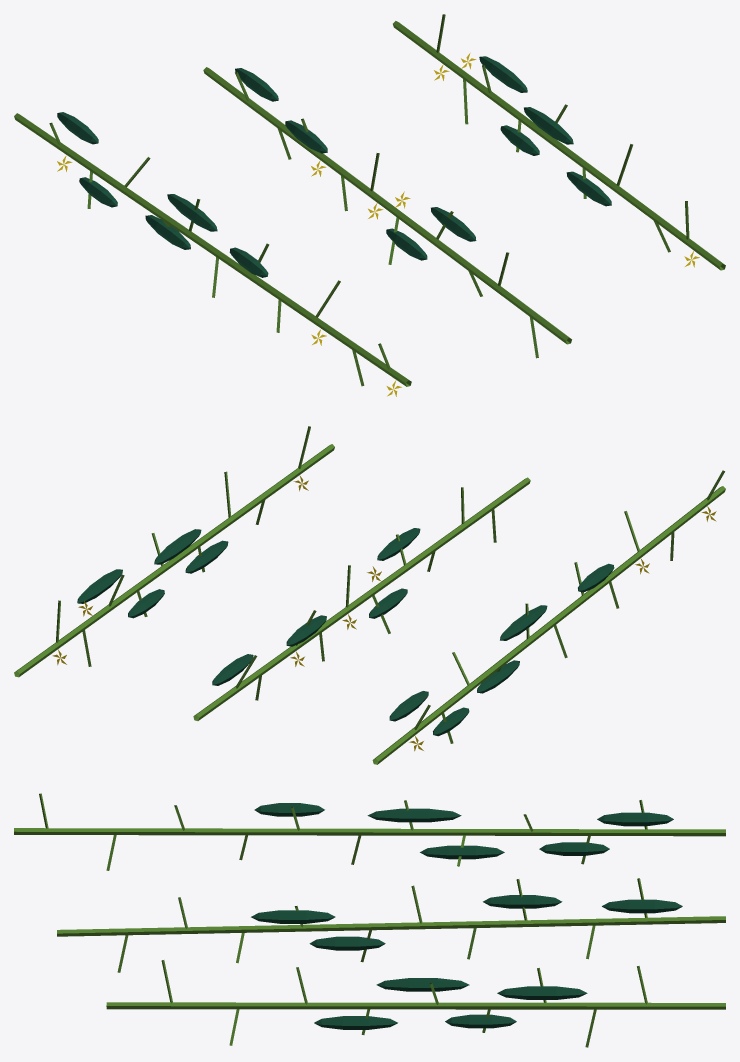
The model's file is r4c0_stems.obj.
The picture shows the model from 3 angles, top to bottom: view 1: azimuth 30°, elevation 25°; view 2: azimuth 150°, elevation 25°; view 3: azimuth 270°, elevation 25°; orthographic projection. The views are drawn at different scales.
Visible parts, largest first — view 1: r4c0_stems; view 2: r4c0_stems; view 3: r4c0_stems.
Boxes of the visible parts, bbox=[...] form: r4c0_stems: bbox=[14, 14, 725, 396]; r4c0_stems: bbox=[14, 426, 725, 764]; r4c0_stems: bbox=[14, 793, 725, 1047].
Size of the model in its own units: 1.35 by 0.3093 by 2.17.
